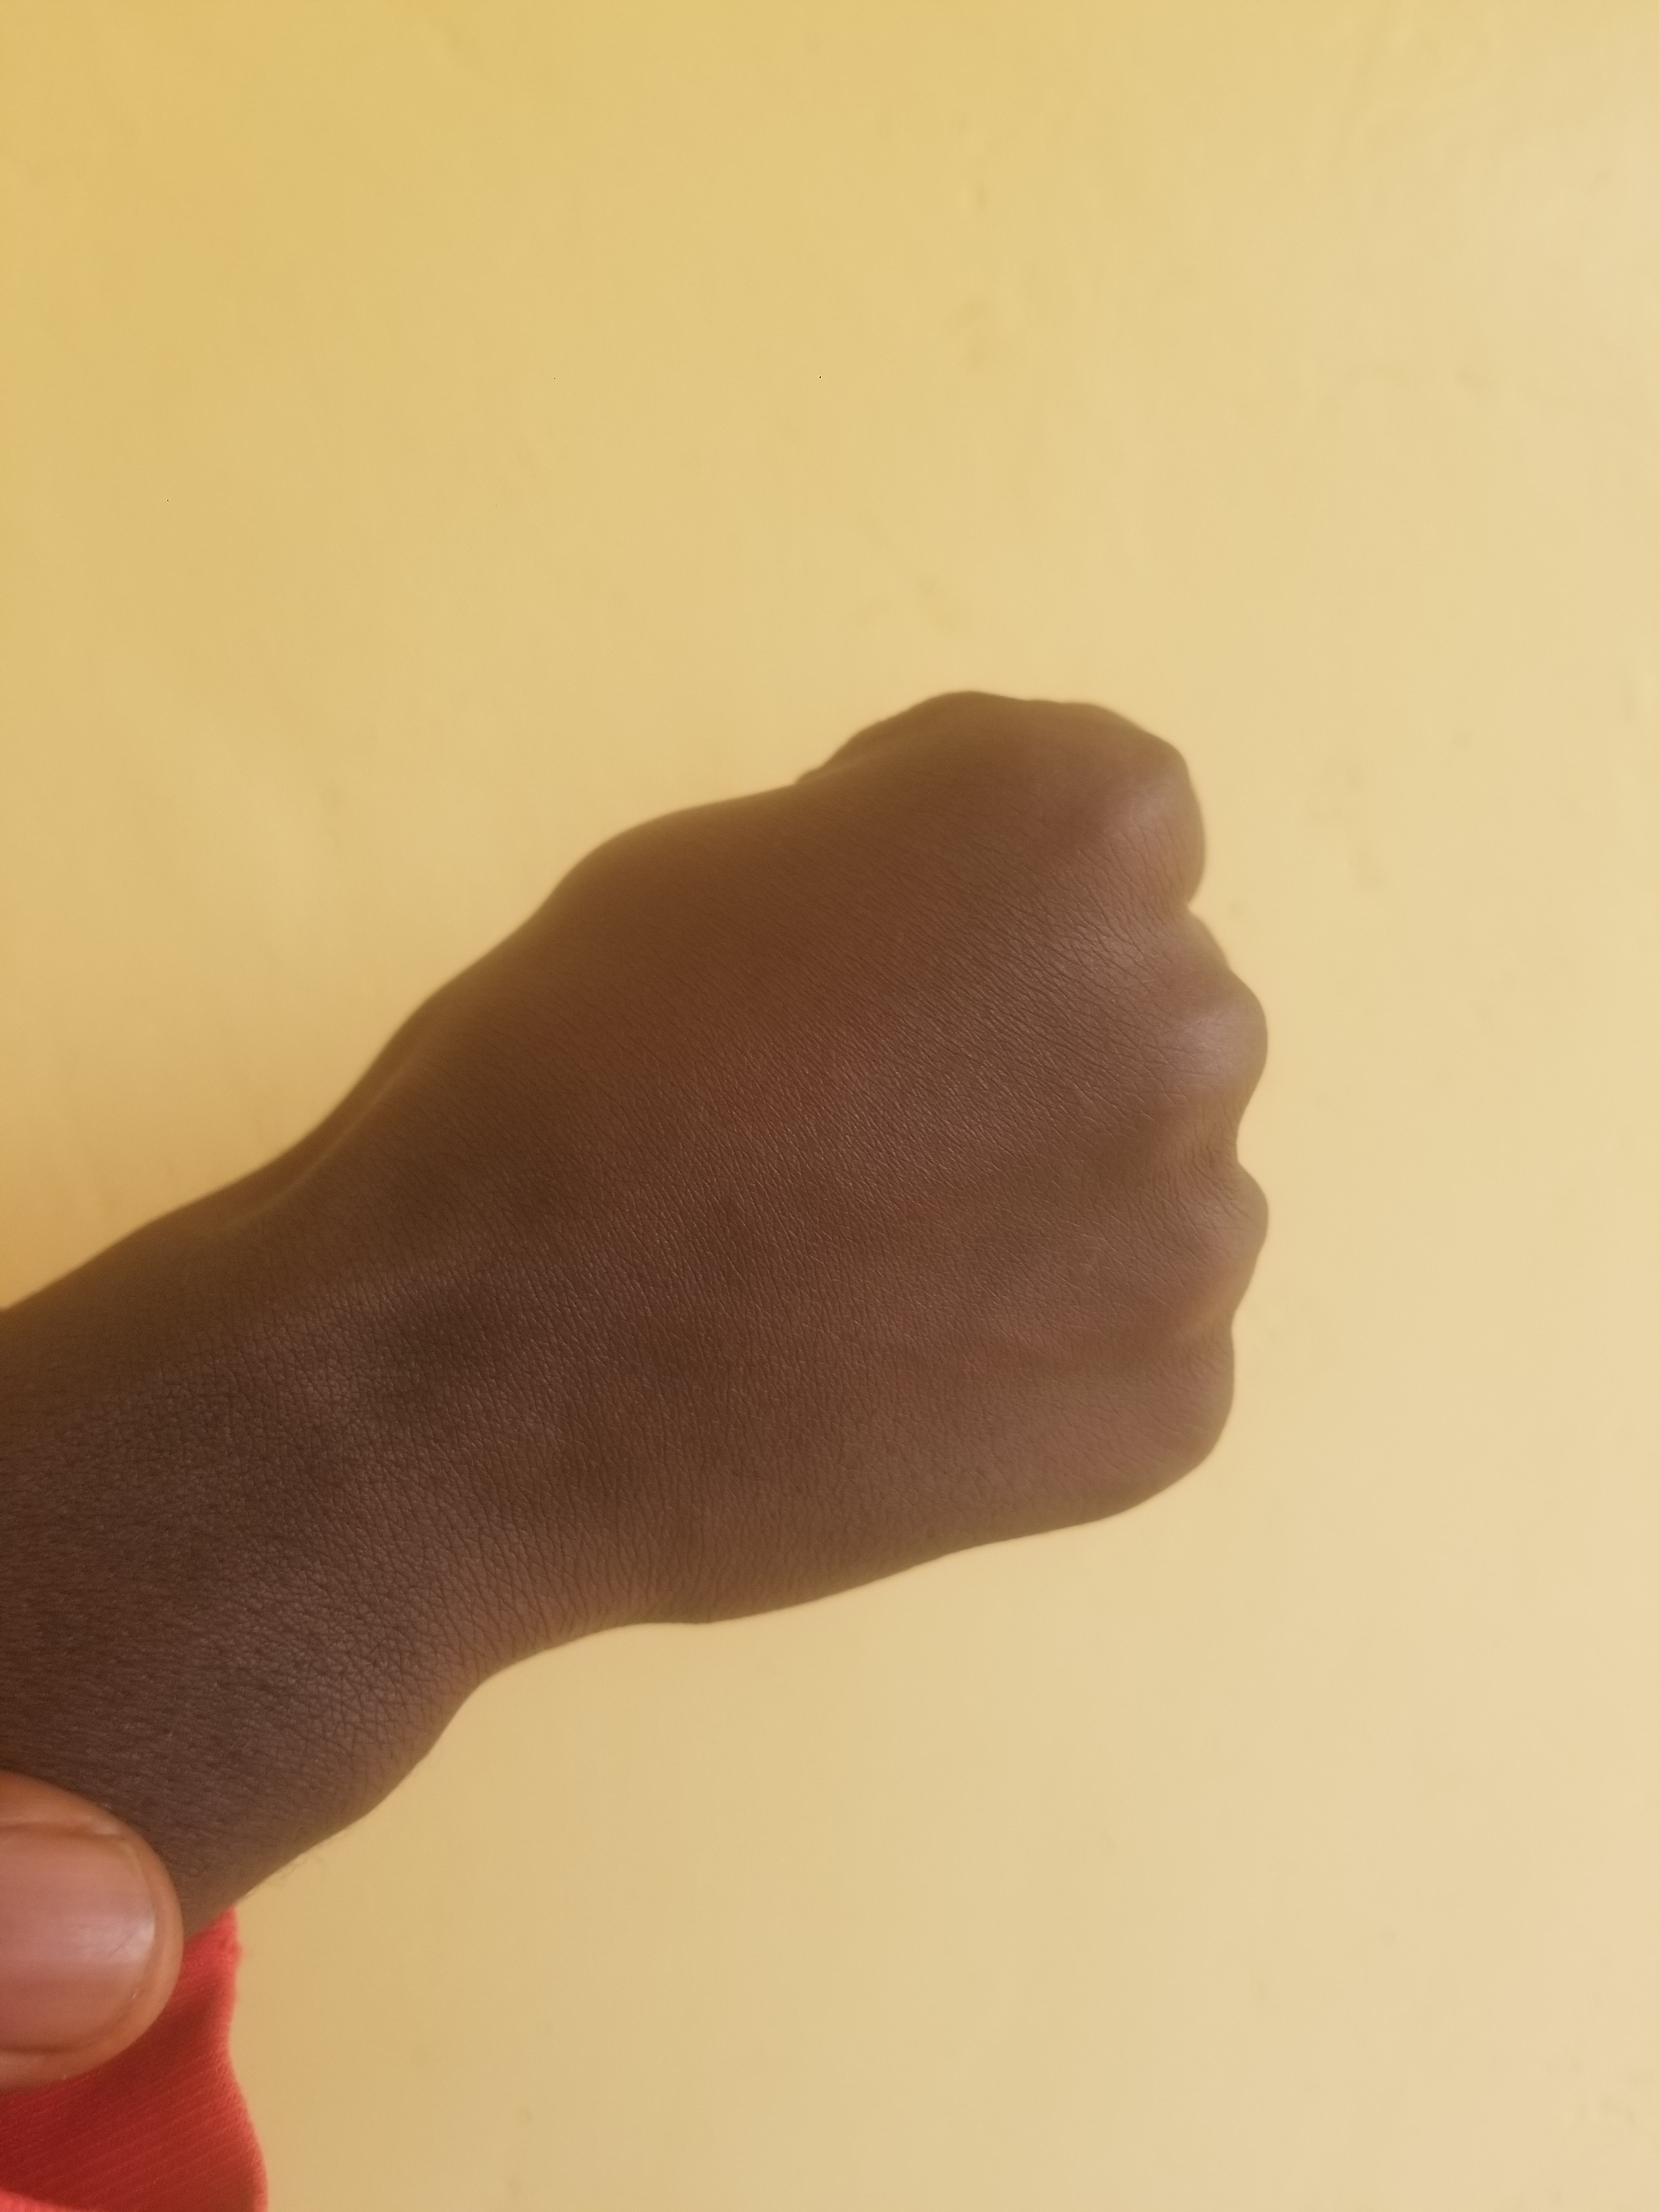fist: (488, 261, 1525, 1841)
